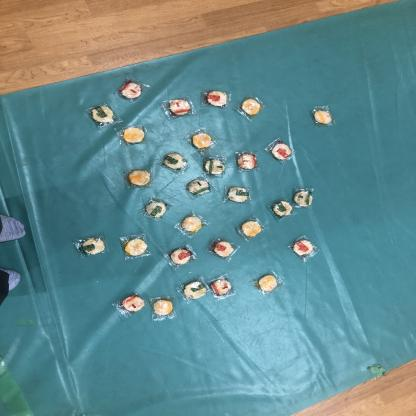green_setoshio: (75, 232, 112, 260), (83, 102, 118, 128), (179, 278, 210, 304), (140, 198, 173, 221), (200, 156, 231, 179), (162, 152, 192, 174), (270, 198, 298, 221), (186, 177, 214, 197), (225, 186, 253, 204), (292, 188, 315, 207)
red_setoshio: (206, 236, 242, 262), (164, 243, 199, 268), (114, 78, 149, 102), (199, 86, 234, 110), (162, 97, 197, 120), (116, 292, 148, 317), (210, 274, 238, 302), (264, 138, 296, 162), (288, 236, 320, 260), (235, 148, 260, 172)
yellow_setoshio: (114, 123, 151, 147), (175, 210, 206, 238), (236, 216, 268, 241), (119, 234, 151, 259), (307, 103, 338, 128), (124, 166, 155, 190), (186, 130, 218, 153), (236, 94, 265, 119), (255, 271, 284, 295), (149, 296, 176, 320)
